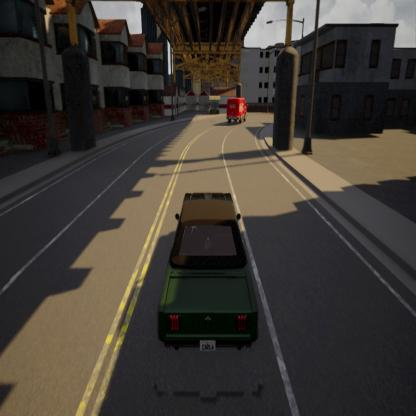Cars: (156, 180, 266, 373), (221, 91, 251, 129)
